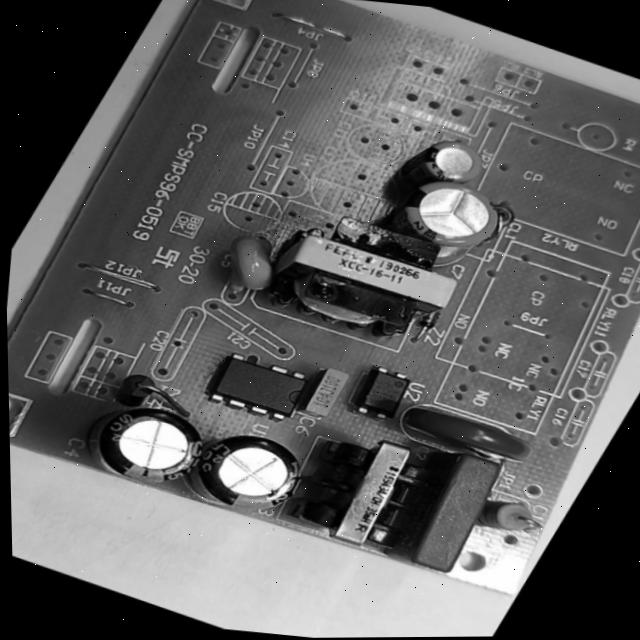Cap1: (376, 166, 516, 266)
Cap2: (411, 129, 495, 190)
Cap3: (176, 418, 323, 527)
Cap4: (78, 388, 221, 496)
MOSFET: (198, 343, 316, 427)
Mov: (395, 396, 543, 467)
Resistor: (468, 489, 552, 548)
Transformer: (246, 195, 481, 361), (279, 418, 446, 563)
